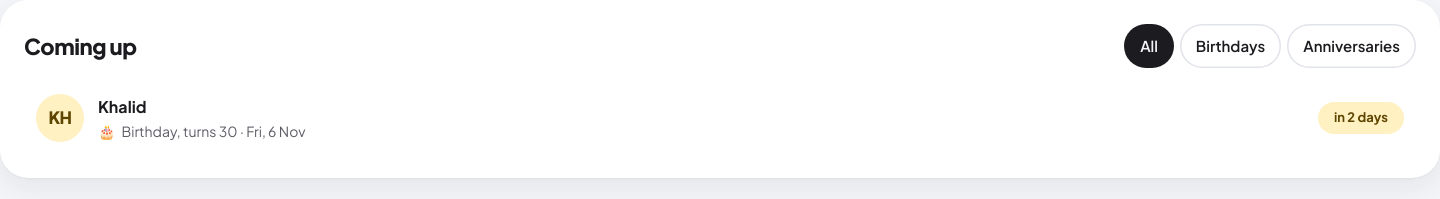
Test case: Coming up › says when a filter has nothing
Click the button "Anniversaries". click: (1352, 46)
box: [1287, 24, 1416, 68]
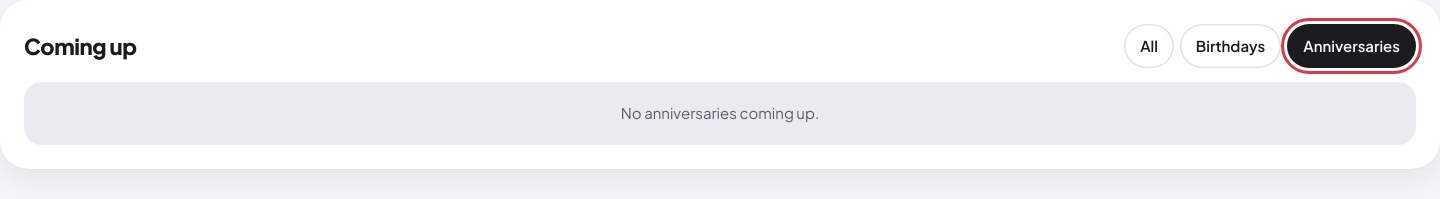
Now the text "No anniversaries coming up." is shown, box [24, 82, 1416, 144]
